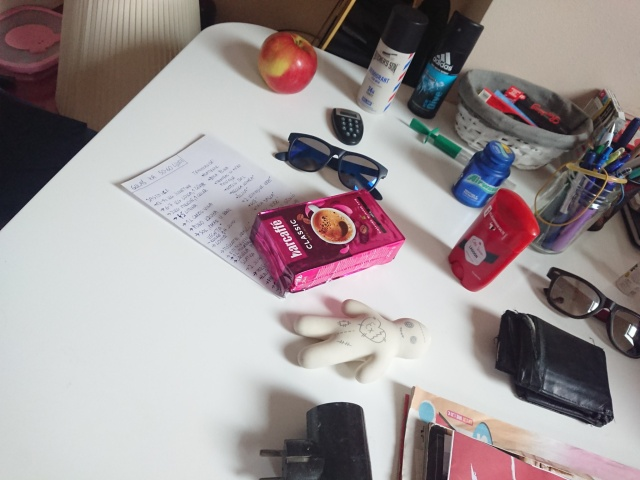Barcaffe Classic Original 225g: (247, 187, 408, 298)
